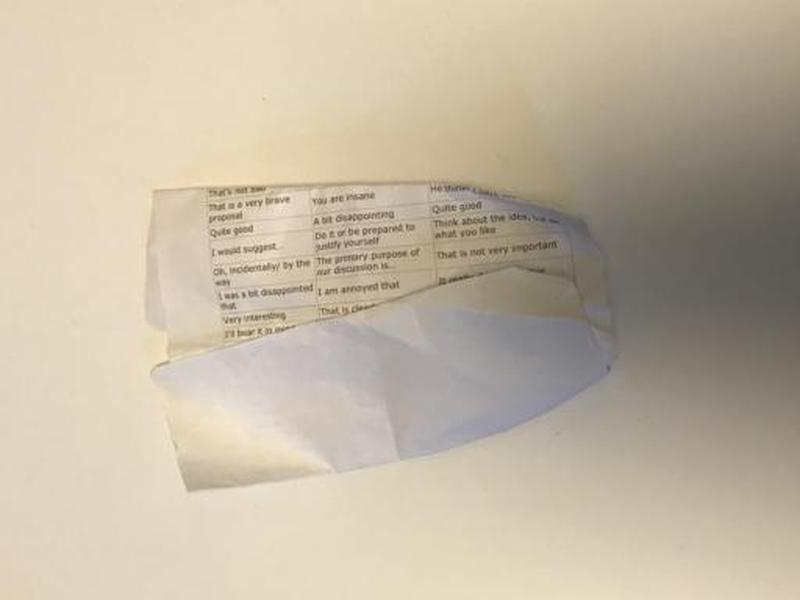paper: (139, 168, 614, 498)
